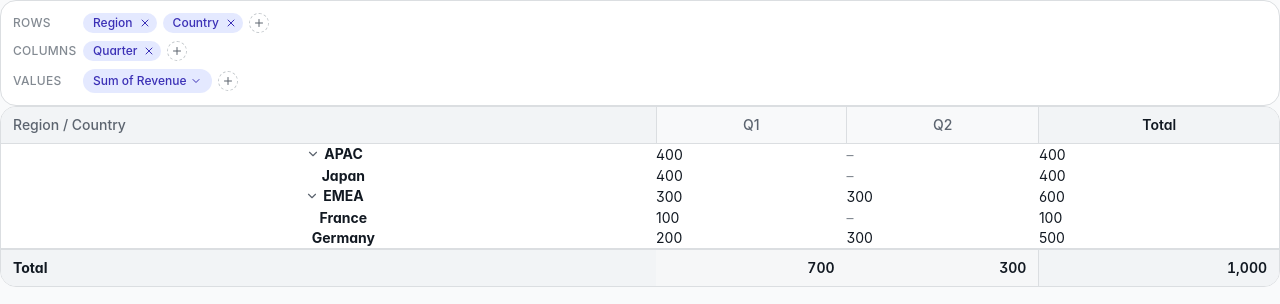
Test: PivotTable › collapses and expands row groups
The image size is (1280, 304).
Check: the column heading "France" is shown, box [1,208,656,228]
Click the button "EMEA". click: point(335, 196)
box: [305,186,364,206]
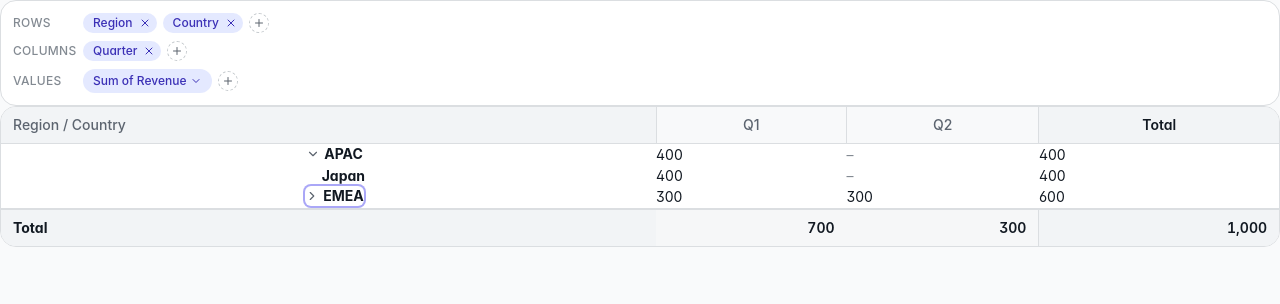
Check: the text "600" is shown, box [1039,186,1279,209]
Check: the column heading "France" is gone
Click the button "EMEA". click: point(335, 196)
box: [305,186,364,206]
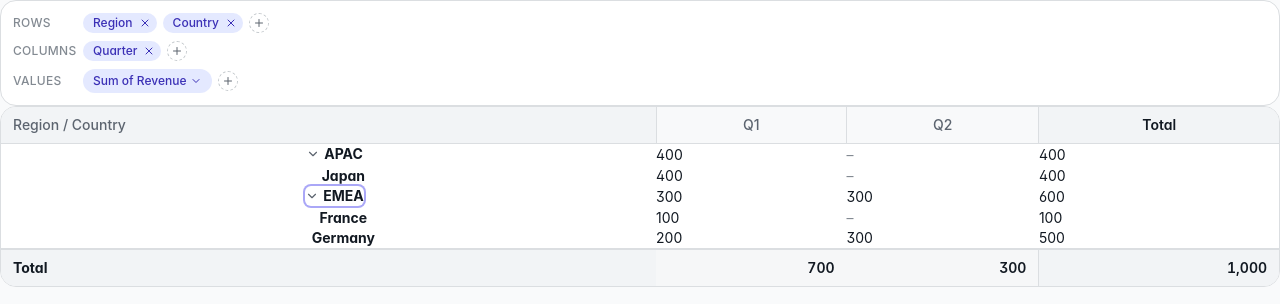
Check: the column heading "France" is shown, box [1,208,656,228]
